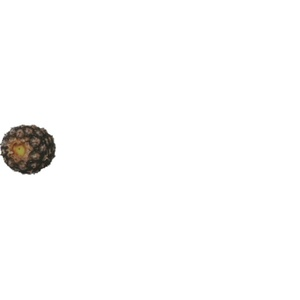abacaxi: (1, 118, 59, 176)
